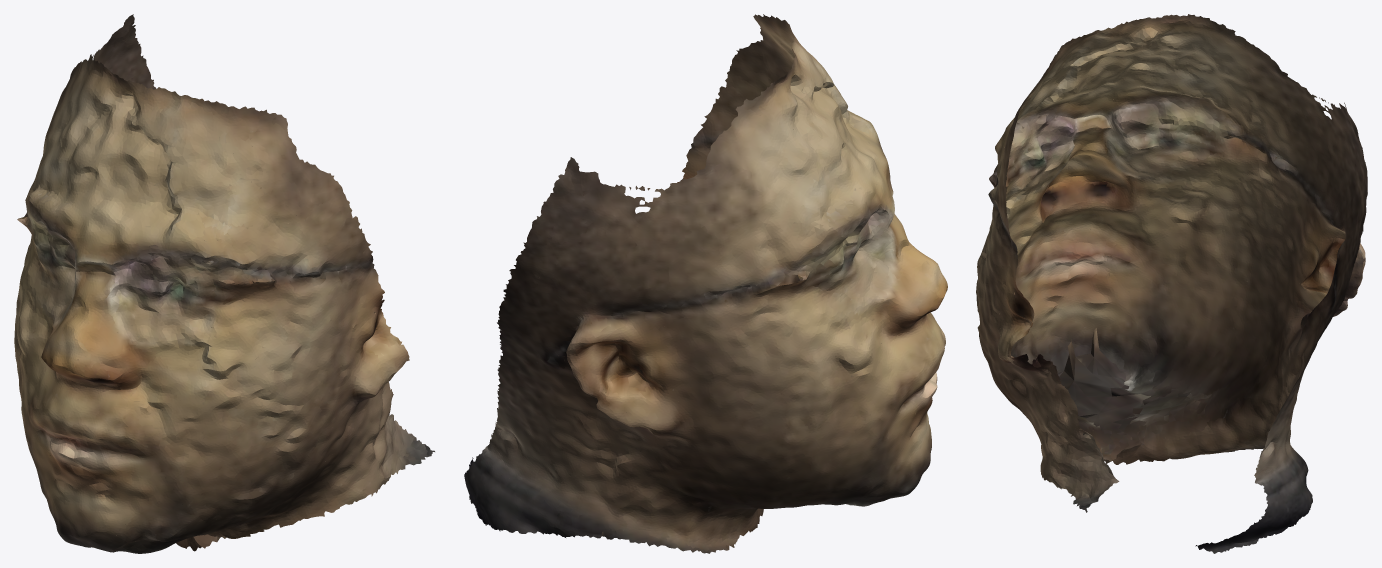
The model's file is David_Photogrammetry.fbx.
The picture shows the model from 3 angles, left to right: view 1: azimuth 30°, elevation 25°; view 2: azimuth 150°, elevation 25°; view 3: azimuth 270°, elevation 25°; orthographic projection. The views are drawn at different scales.
Visible parts, largest first — view 1: texturedMesh; view 2: texturedMesh; view 3: texturedMesh.
Boxes of the visible parts, <box> form: texturedMesh: <box>14,14,434,553</box>; texturedMesh: <box>464,14,947,553</box>; texturedMesh: <box>976,14,1367,553</box>.
Bounding box in the file's own units: 39.93 × 44.78 × 37.08.
Materials: 1 (1 with a texture image).
